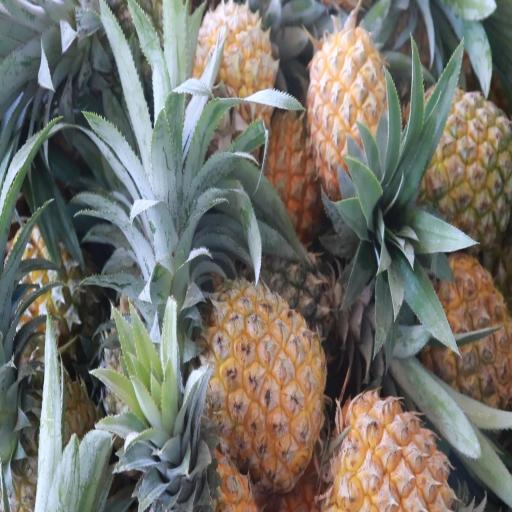Pineapple - v8 v1: (206, 276, 328, 491), (324, 394, 454, 512), (309, 28, 397, 198), (419, 91, 512, 251), (419, 250, 512, 404), (194, 3, 274, 145)
